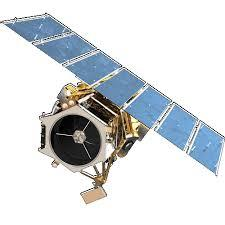antenna: (80, 184, 108, 205)
body: (38, 83, 150, 175)
solar: (0, 12, 225, 178)
